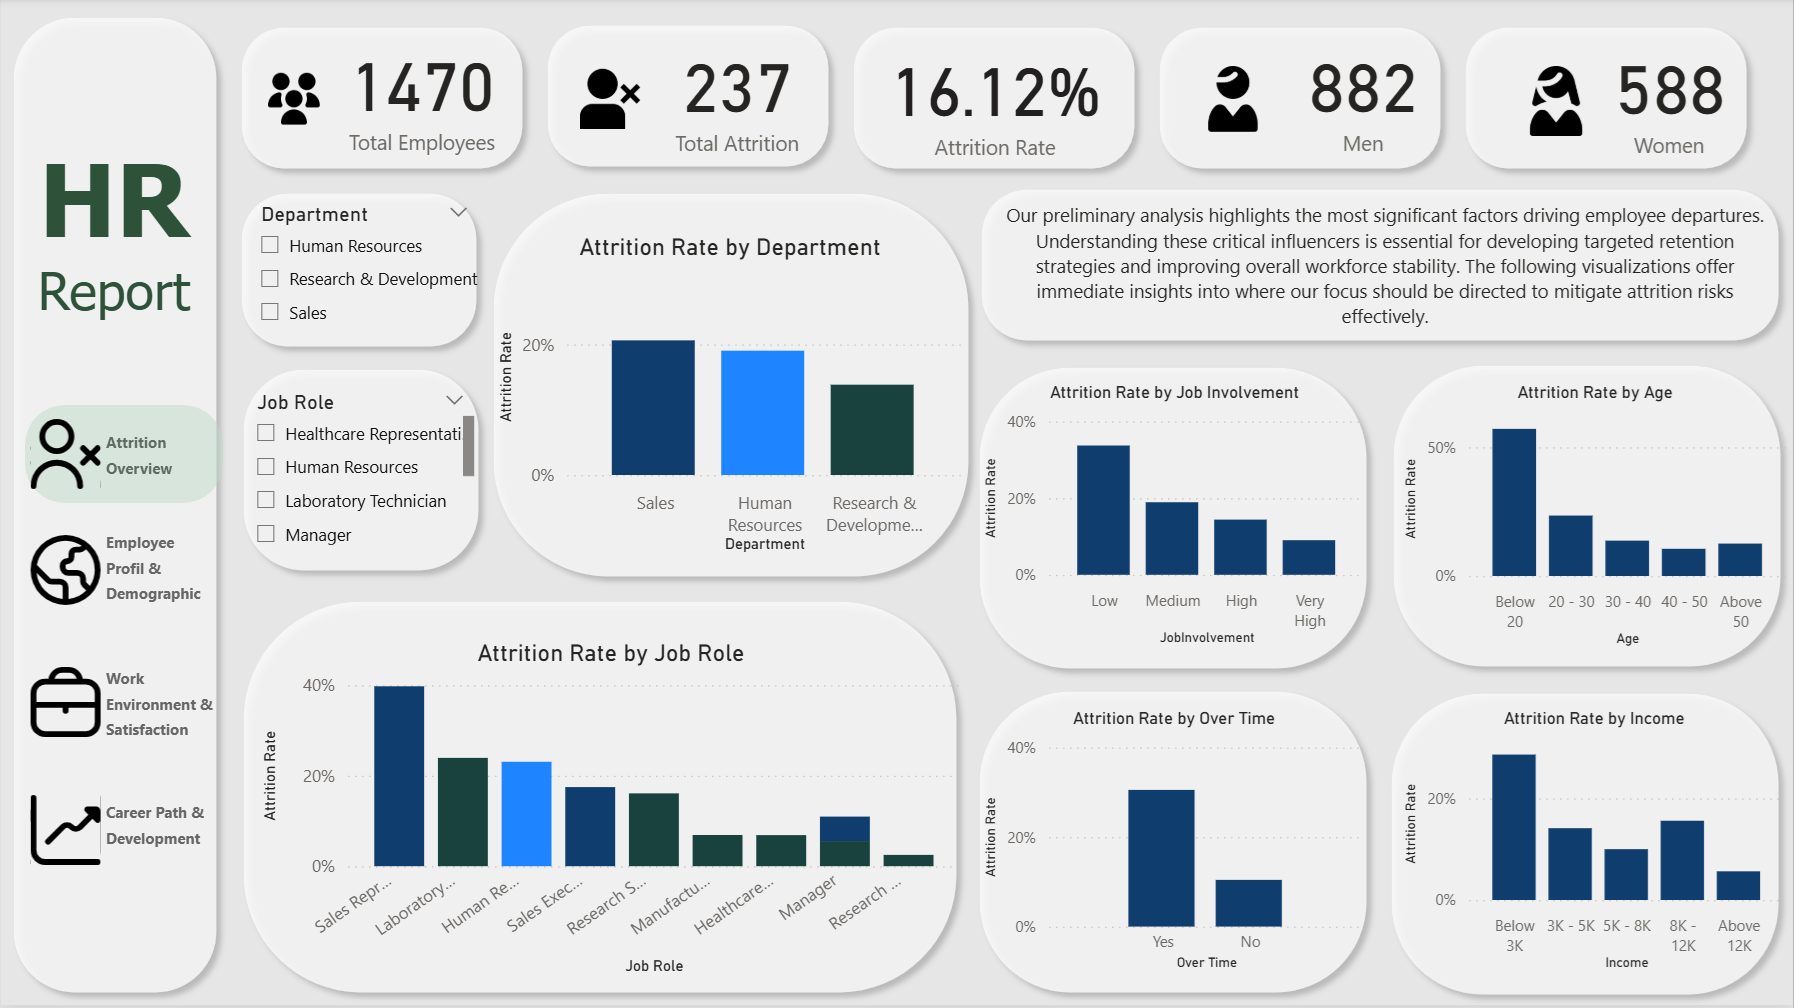

The page's visual inventory and layout, read from the dashboard file:
{"tool":"powerbi","page":{"name":"Attrition Overview","canvas":[1280,720],"ordinal":1},"visuals":[{"type":"shape","box":[0,5.7,162.9,714.3],"z":0,"group":"g1"},{"type":"shape","box":[162.9,12.9,218.6,118.6],"z":0},{"type":"textbox","box":[70,302.8,80,47.1],"z":500,"group":"g1"},{"type":"shape","box":[381.4,11.4,218.6,118.6],"z":1000},{"type":"actionButton","box":[17.1,291.4,141.4,70],"z":1125,"group":"g1"},{"type":"textbox","box":[70,374.3,80,84.3],"z":1750,"group":"g1"},{"type":"shape","box":[600,12.9,218.6,118.6],"z":2000},{"type":"actionButton","box":[17.1,374.3,141.4,70],"z":2500,"group":"g1"},{"type":"shape","box":[818.6,12.9,218.6,118.6],"z":3000},{"type":"textbox","box":[70,471.4,92.9,67.1],"z":3250,"group":"g1"},{"type":"shape","box":[1037.1,12.9,218.6,118.6],"z":4000},{"type":"actionButton","box":[17.1,468.6,141.4,70],"z":4000,"group":"g1"},{"type":"card","fields":{"Values":["Sum(WA_Fn-UseC_-HR-Employee-Attrition.Employee Count)"]},"box":[208.6,12.9,184.3,111.4],"z":5000},{"type":"textbox","box":[70,567.1,88.6,55.7],"z":5000,"group":"g1"},{"type":"image","box":[185.7,37.1,47.1,71.4],"z":6000},{"type":"actionButton","box":[17.1,560,141.4,70],"z":6000,"group":"g1"},{"type":"card","fields":{"Values":["WA_Fn-UseC_-HR-Employee-Attrition.Attrition Rate"]},"box":[611.4,17.1,197.1,110],"z":7000},{"type":"card","fields":{"Values":["WA_Fn-UseC_-HR-Employee-Attrition.Total Attrition"]},"box":[461.4,21.4,128.6,95.7],"z":8000},{"type":"image","box":[408.6,44.3,52.9,57.1],"z":9000},{"type":"card","fields":{"Values":["WA_Fn-UseC_-HR-Employee-Attrition.Men"]},"box":[908.6,21.4,128.6,95.7],"z":10000},{"type":"image","box":[851.4,44.3,57.1,57.1],"z":11000},{"type":"card","fields":{"Values":["WA_Fn-UseC_-HR-Employee-Attrition.Women"]},"box":[1127.1,22.9,128.6,95.7],"z":12000},{"type":"image","box":[1075.7,44.3,70,60],"z":13000},{"type":"shape","box":[342.9,131.4,357.1,291.4],"z":14000},{"type":"shape","box":[164.3,422.9,527.1,297.1],"z":15000},{"type":"shape","box":[984.3,488.6,294.3,232.9],"z":16000},{"type":"shape","box":[690,487.1,294.3,232.9],"z":17000},{"type":"shape","box":[985.7,254.3,294.3,232.9],"z":18000},{"type":"shape","box":[690,255.7,294.3,232.9],"z":19000},{"type":"shape","box":[691.4,128.6,587.1,125.7],"z":20000},{"type":"shape","box":[162.9,131.4,185.7,127.1],"z":21000},{"type":"columnChart","title":"Attrition Rate by Department","fields":{"Category":["WA_Fn-UseC_-HR-Employee-Attrition.Department"],"Y":["WA_Fn-UseC_-HR-Employee-Attrition.Attrition Rate"],"Series":["WA_Fn-UseC_-HR-Employee-Attrition.Department"]},"box":[350,168.6,341.4,232.9],"z":22000},{"type":"columnChart","title":"Attrition Rate by Job Role","fields":{"Category":["WA_Fn-UseC_-HR-Employee-Attrition.Job Role"],"Series":["WA_Fn-UseC_-HR-Employee-Attrition.Department"],"Y":["WA_Fn-UseC_-HR-Employee-Attrition.Attrition Rate"]},"box":[181.4,458.6,508.6,244.3],"z":23000},{"type":"lineStackedColumnComboChart","title":"Attrition Rate by Job Involvement","fields":{"Category":["JobInvolvement.JobInvolvement"],"Y":["WA_Fn-UseC_-HR-Employee-Attrition.Attrition Rate"]},"box":[697.1,275.7,282,192],"z":24000},{"type":"columnChart","fields":{"Category":["WA_Fn-UseC_-HR-Employee-Attrition.Age Group"],"Y":["WA_Fn-UseC_-HR-Employee-Attrition.Attrition Rate"]},"box":[997.1,275.7,282.9,192.9],"z":25000},{"type":"columnChart","fields":{"Y":["WA_Fn-UseC_-HR-Employee-Attrition.Attrition Rate"],"Category":["WA_Fn-UseC_-HR-Employee-Attrition.Income Group"]},"box":[997.1,508.6,281.4,191.4],"z":26000},{"type":"columnChart","fields":{"Y":["WA_Fn-UseC_-HR-Employee-Attrition.Attrition Rate"],"Category":["WA_Fn-UseC_-HR-Employee-Attrition.Over Time"]},"box":[697.1,508.6,281.4,191.4],"z":27000},{"type":"textbox","box":[710,141.4,557.1,112.9],"z":28000},{"type":"slicer","fields":{"Values":["WA_Fn-UseC_-HR-Employee-Attrition.Department"]},"box":[172.9,141.4,172.9,114.3],"z":29000},{"type":"shape","box":[164.3,257.1,185.7,161.4],"z":30000},{"type":"slicer","fields":{"Values":["WA_Fn-UseC_-HR-Employee-Attrition.Job Role"]},"box":[170,275.7,172.9,125.7],"z":31000},{"type":"group","id":"g1","title":"Group 1","box":[0,5.7,162.9,714.3],"z":32000},{"type":"textbox","box":[17.1,94.3,127.1,151.4],"z":33000}]}

Visuals, with their boxes in screenshot pixels (x1, y1, x2, y2), scaled from the page's 1280x720 canvas onto the 1794x1008 screenshot:
shape: rect(0, 8, 228, 1007)
shape: rect(228, 18, 535, 184)
textbox: rect(98, 424, 210, 490)
shape: rect(535, 16, 841, 182)
actionButton: rect(24, 408, 222, 506)
textbox: rect(98, 524, 210, 642)
shape: rect(841, 18, 1147, 184)
actionButton: rect(24, 524, 222, 622)
shape: rect(1147, 18, 1454, 184)
textbox: rect(98, 660, 228, 754)
shape: rect(1454, 18, 1760, 184)
actionButton: rect(24, 656, 222, 754)
card - Sum(WA_Fn-UseC_-HR-Employee-Attrition.Employee Count): rect(292, 18, 551, 174)
textbox: rect(98, 794, 222, 872)
image: rect(260, 52, 326, 152)
actionButton: rect(24, 784, 222, 882)
card - WA_Fn-UseC_-HR-Employee-Attrition.Attrition Rate: rect(857, 24, 1133, 178)
card - WA_Fn-UseC_-HR-Employee-Attrition.Total Attrition: rect(647, 30, 827, 164)
image: rect(573, 62, 647, 142)
card - WA_Fn-UseC_-HR-Employee-Attrition.Men: rect(1273, 30, 1454, 164)
image: rect(1193, 62, 1273, 142)
card - WA_Fn-UseC_-HR-Employee-Attrition.Women: rect(1580, 32, 1760, 166)
image: rect(1508, 62, 1606, 146)
shape: rect(481, 184, 981, 592)
shape: rect(230, 592, 969, 1007)
shape: rect(1380, 684, 1792, 1007)
shape: rect(967, 682, 1380, 1007)
shape: rect(1382, 356, 1793, 682)
shape: rect(967, 358, 1380, 684)
shape: rect(969, 180, 1792, 356)
shape: rect(228, 184, 489, 362)
"Attrition Rate by Department" columnChart: rect(491, 236, 969, 562)
"Attrition Rate by Job Role" columnChart: rect(254, 642, 967, 984)
"Attrition Rate by Job Involvement" lineStackedColumnComboChart: rect(977, 386, 1372, 655)
columnChart - WA_Fn-UseC_-HR-Employee-Attrition.Age Group x WA_Fn-UseC_-HR-Employee-Attrition.Attrition Rate: rect(1397, 386, 1793, 656)
columnChart - WA_Fn-UseC_-HR-Employee-Attrition.Attrition Rate x WA_Fn-UseC_-HR-Employee-Attrition.Income Group: rect(1397, 712, 1792, 980)
columnChart - WA_Fn-UseC_-HR-Employee-Attrition.Attrition Rate x WA_Fn-UseC_-HR-Employee-Attrition.Over Time: rect(977, 712, 1371, 980)
textbox: rect(995, 198, 1776, 356)
slicer - WA_Fn-UseC_-HR-Employee-Attrition.Department: rect(242, 198, 485, 358)
shape: rect(230, 360, 491, 586)
slicer - WA_Fn-UseC_-HR-Employee-Attrition.Job Role: rect(238, 386, 481, 562)
"Group 1" group: rect(0, 8, 228, 1007)
textbox: rect(24, 132, 202, 344)
